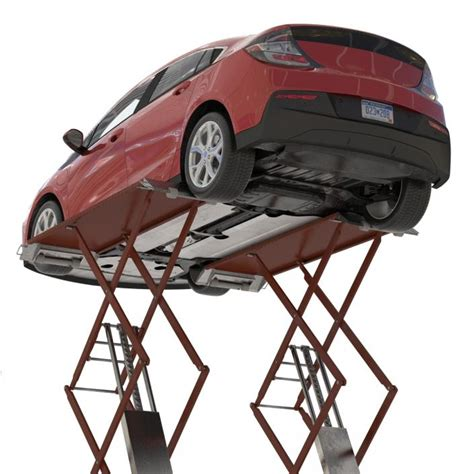Scissor Lift: (16, 178, 422, 474)
